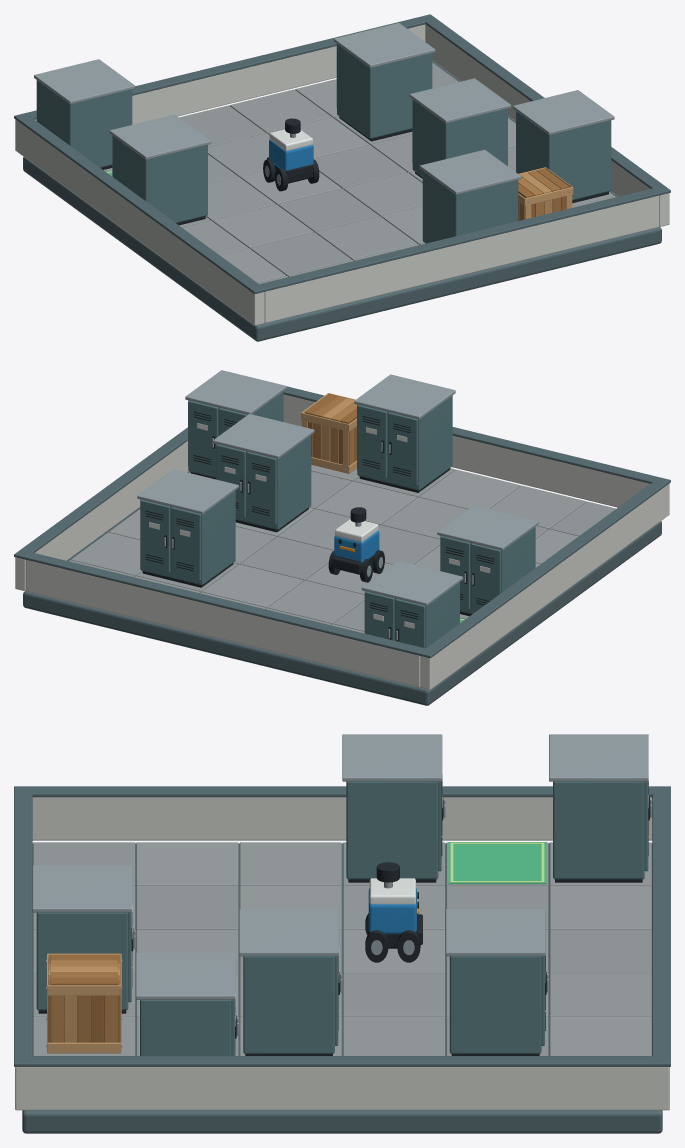
The picture shows the model from 3 angles, top to bottom: view 1: azimuth 30°, elevation 25°; view 2: azimuth 150°, elevation 25°; view 3: azimuth 270°, elevation 25°; orthographic projection. The views are drawn at different scales.
Parts seen in each view (by area): view 1: Cutaway wall.002, Floor foundation, obstacle_4, obstacle_5, obstacle_0, Cutaway wall, obstacle_1, obstacle_2, obstacle_3, Cutaway wall.003, Wall coping.002, Cutaway wall.001 (+22 smaller); view 2: Cutaway wall.003, Floor foundation, obstacle_4, obstacle_2, obstacle_3, Cutaway wall, obstacle_0, obstacle_1, Cutaway wall.002, obstacle_5, Cutaway wall.001, Wall coping.003 (+22 smaller); view 3: Cutaway wall.001, Cutaway wall, Floor foundation, obstacle_1, obstacle_4, obstacle_3, obstacle_0, obstacle_5, obstacle_2, crate, Wall coping.001, Wall coping (+21 smaller).
Part boxes in pixels (bbox=[...]): Cutaway wall.002: bbox=[264, 195, 659, 323]; Floor foundation: bbox=[23, 61, 661, 341]; obstacle_4: bbox=[334, 23, 435, 141]; obstacle_5: bbox=[513, 90, 614, 203]; obstacle_0: bbox=[109, 114, 211, 225]; Cutaway wall: bbox=[15, 119, 264, 325]; obstacle_1: bbox=[34, 59, 135, 169]; obstacle_2: bbox=[419, 149, 521, 243]; obstacle_3: bbox=[409, 78, 511, 178]; Cutaway wall.003: bbox=[35, 24, 425, 124]; Wall coping.002: bbox=[259, 188, 660, 291]; Cutaway wall.001: bbox=[425, 24, 669, 226]; Cutaway wall.003: bbox=[25, 560, 420, 687]; Floor foundation: bbox=[23, 469, 661, 705]; obstacle_4: bbox=[137, 469, 238, 587]; obstacle_2: bbox=[354, 374, 455, 492]; obstacle_3: bbox=[213, 414, 314, 532]; Cutaway wall: bbox=[420, 483, 669, 689]; obstacle_0: bbox=[437, 505, 538, 616]; obstacle_1: bbox=[361, 561, 463, 648]; Cutaway wall.002: bbox=[283, 394, 649, 507]; obstacle_5: bbox=[185, 370, 286, 479]; Cutaway wall.001: bbox=[15, 441, 188, 590]; Wall coping.003: bbox=[24, 552, 425, 655]; Cutaway wall.001: bbox=[15, 1067, 669, 1110]; Cutaway wall: bbox=[32, 797, 652, 840]; Floor foundation: bbox=[22, 843, 662, 1133]; obstacle_1: bbox=[549, 734, 652, 882]; obstacle_4: bbox=[445, 909, 548, 1055]; obstacle_3: bbox=[239, 909, 342, 1055]; obstacle_0: bbox=[342, 734, 445, 882]; obstacle_5: bbox=[136, 952, 239, 1055]; obstacle_2: bbox=[32, 865, 135, 1013]; crate: bbox=[46, 953, 122, 1053]; Wall coping.001: bbox=[14, 1056, 670, 1066]; Wall coping: bbox=[14, 786, 670, 797].
Bounding box in the file's own units: 6.36 × 1.44 × 6.36.
